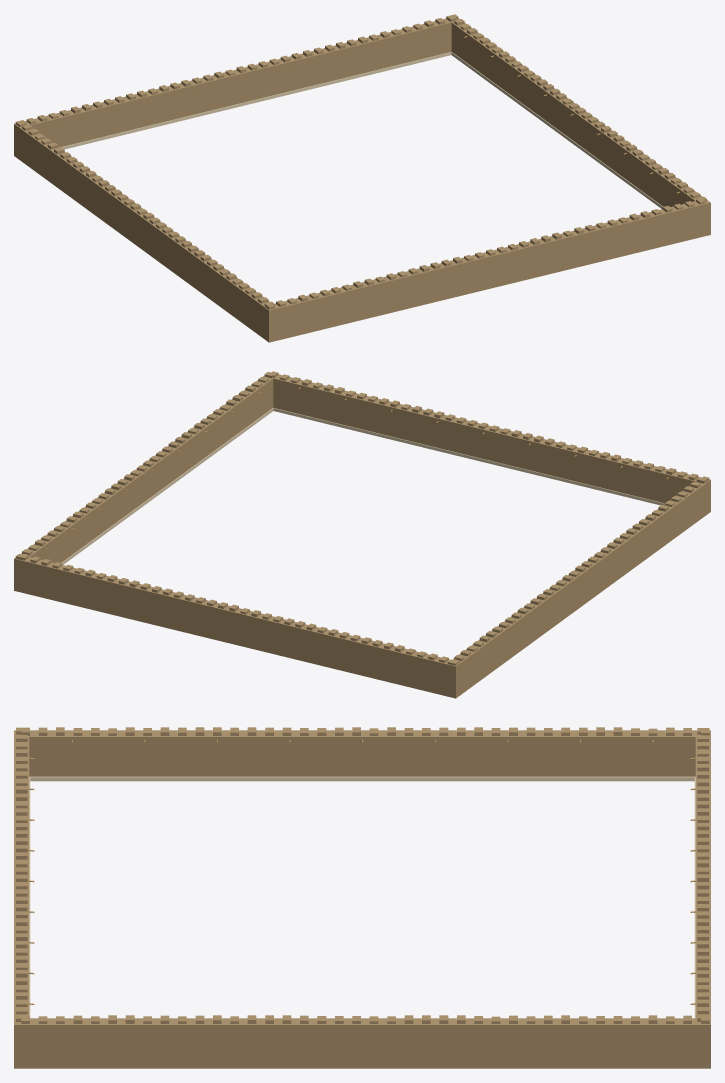
The model's file is db-perimeter.glb.
3 views of the same model, one above another, from view 1: azimuth 30°, elevation 25°; view 2: azimuth 150°, elevation 25°; view 3: azimuth 270°, elevation 25° (orthographic). The views are drawn at different scales.
Parts seen in each view (by area): view 1: db-perimeter; view 2: db-perimeter; view 3: db-perimeter.
Part boxes in pixels (x1,y1,x2,y2): db-perimeter: [14, 14, 710, 342]; db-perimeter: [14, 371, 710, 698]; db-perimeter: [14, 727, 710, 1068].
Size of the model in its own units: 72 by 5.45 by 72.
